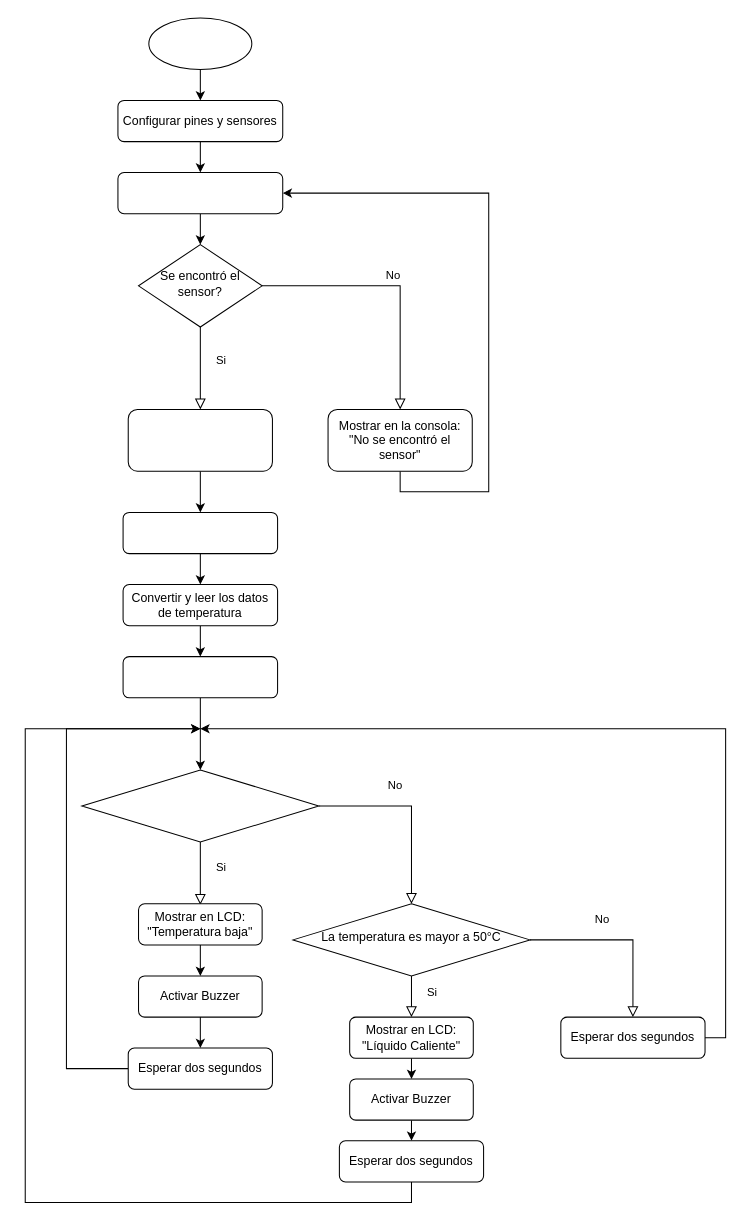
The diagram is 752 pixels wide and 1229 high, and some of its shapes have lost their labels. The shapes that lost their labels are listed below. From the top down, each one's centre as x and y in pixels, then its label:
[200,43]: Inicio
[200,192]: Escanear sensor DS18B20
[199,439]: Mostrar en la consola: "Sensor encontrado"
[200,532]: Leer los datos del sensor
[200,677]: Mostrar temperatura en la consola y el LCD 16x2
[200,805]: La temperatura es menor a 35°C
